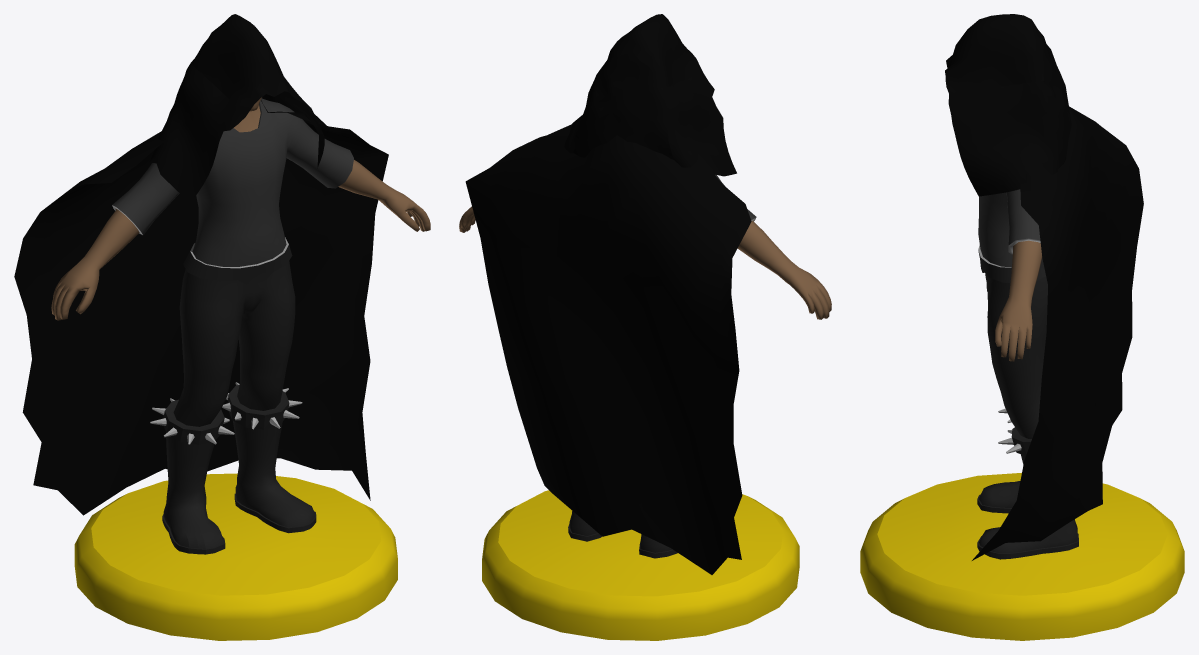
Rendered from necromancer.fbx.
The picture shows the model from 3 angles, left to right: view 1: azimuth 30°, elevation 25°; view 2: azimuth 150°, elevation 25°; view 3: azimuth 270°, elevation 25°; orthographic projection.
Visible parts, largest first — view 1: cape, Necromancer_body, pedestal:pedestal, hood; view 2: cape, pedestal:pedestal, hood, Necromancer_body; view 3: pedestal:pedestal, cape, hood, Necromancer_body.
Boxes of the visible parts, x1,y1,x2,y2 form: cape: [14, 100, 388, 515]; Necromancer_body: [51, 97, 430, 554]; pedestal:pedestal: [74, 473, 397, 640]; hood: [149, 14, 324, 202]; cape: [465, 124, 751, 574]; pedestal:pedestal: [482, 490, 799, 640]; hood: [564, 14, 736, 176]; Necromancer_body: [459, 174, 831, 558]; pedestal:pedestal: [860, 473, 1184, 640]; cape: [972, 106, 1143, 560]; hood: [945, 14, 1071, 196]; Necromancer_body: [977, 189, 1078, 559].
Size of the model in its own units: 9.41 by 13.57 by 7.14.
